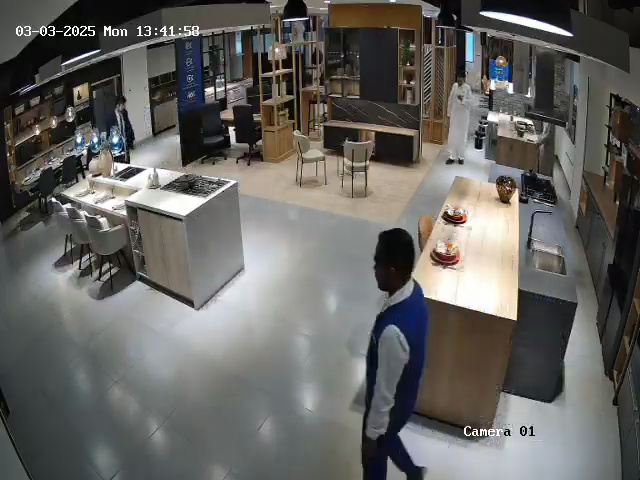employee: (360, 227, 429, 480), (110, 95, 135, 164)
male: (445, 69, 473, 165)
